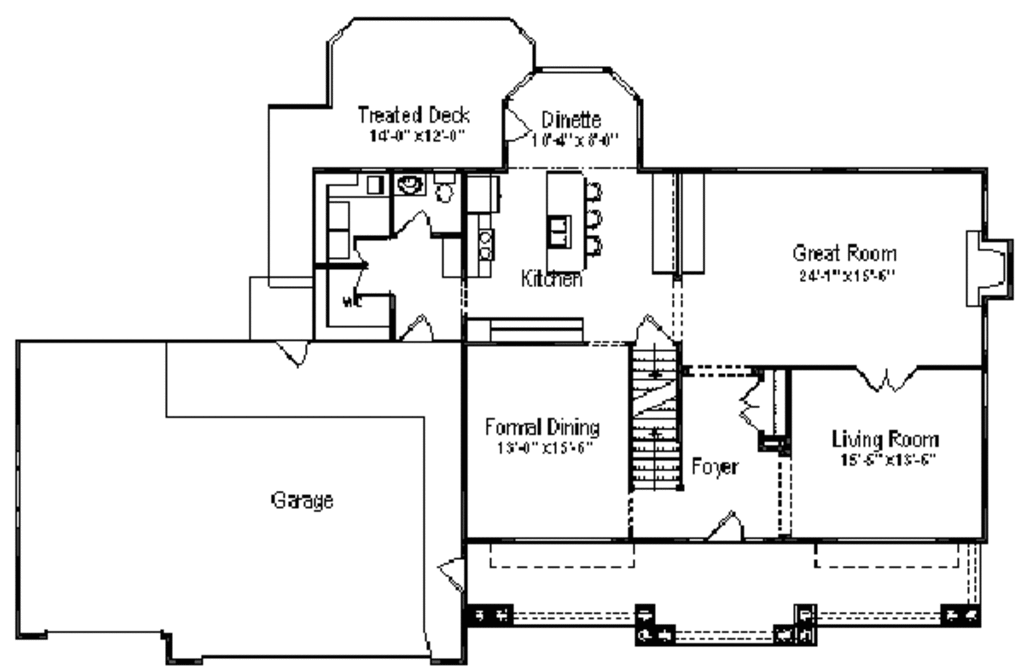door: (851, 360, 916, 393), (736, 381, 765, 438), (703, 507, 746, 543), (437, 550, 469, 591), (498, 106, 530, 145), (400, 314, 441, 344), (353, 229, 388, 261), (397, 207, 436, 235)
kitchen_bar: (538, 167, 605, 274)
stairs: (628, 340, 685, 498)
